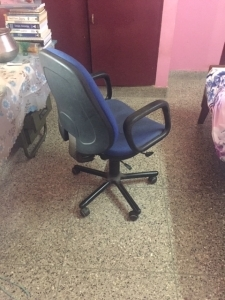chair: (39, 47, 172, 222)
